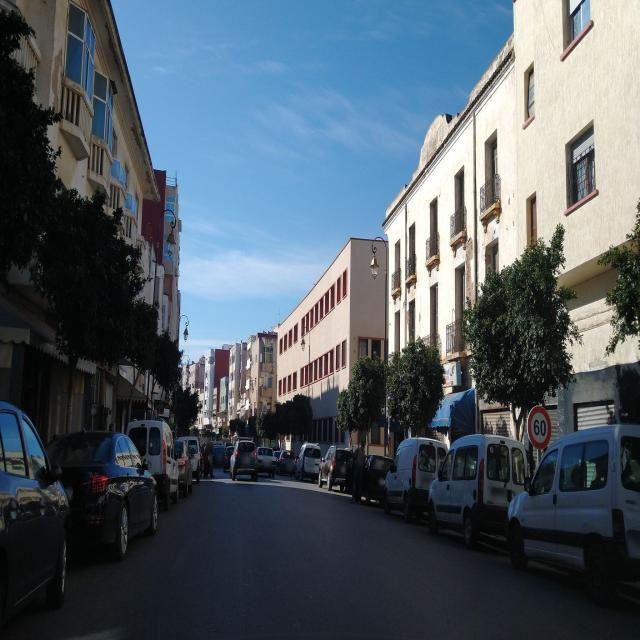car: (505, 422, 640, 606), (0, 395, 71, 636), (45, 428, 160, 562), (427, 431, 527, 550), (382, 434, 450, 522), (126, 417, 180, 512), (358, 450, 393, 504), (318, 444, 352, 491), (172, 438, 194, 498), (176, 436, 204, 482), (230, 437, 259, 481), (296, 442, 322, 481), (256, 446, 275, 478), (278, 449, 297, 477), (222, 444, 235, 473), (213, 441, 225, 467), (271, 448, 281, 468)
